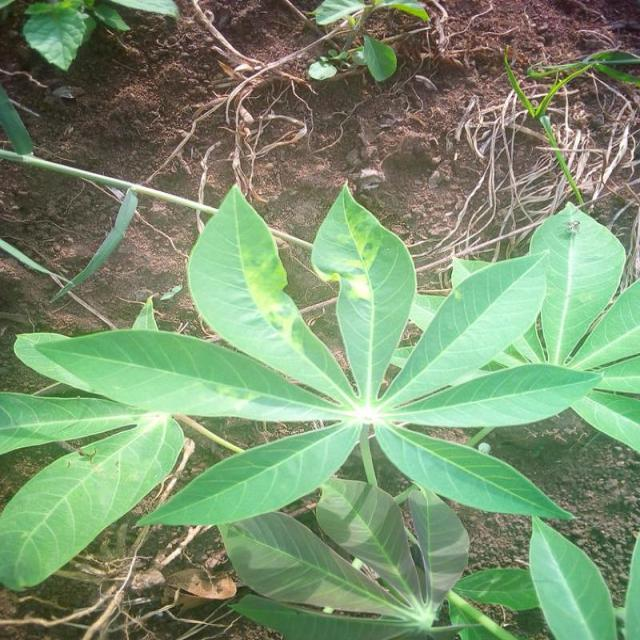cassava leaf: (2, 179, 640, 636), (187, 182, 358, 408), (2, 410, 185, 591), (312, 180, 418, 404)
